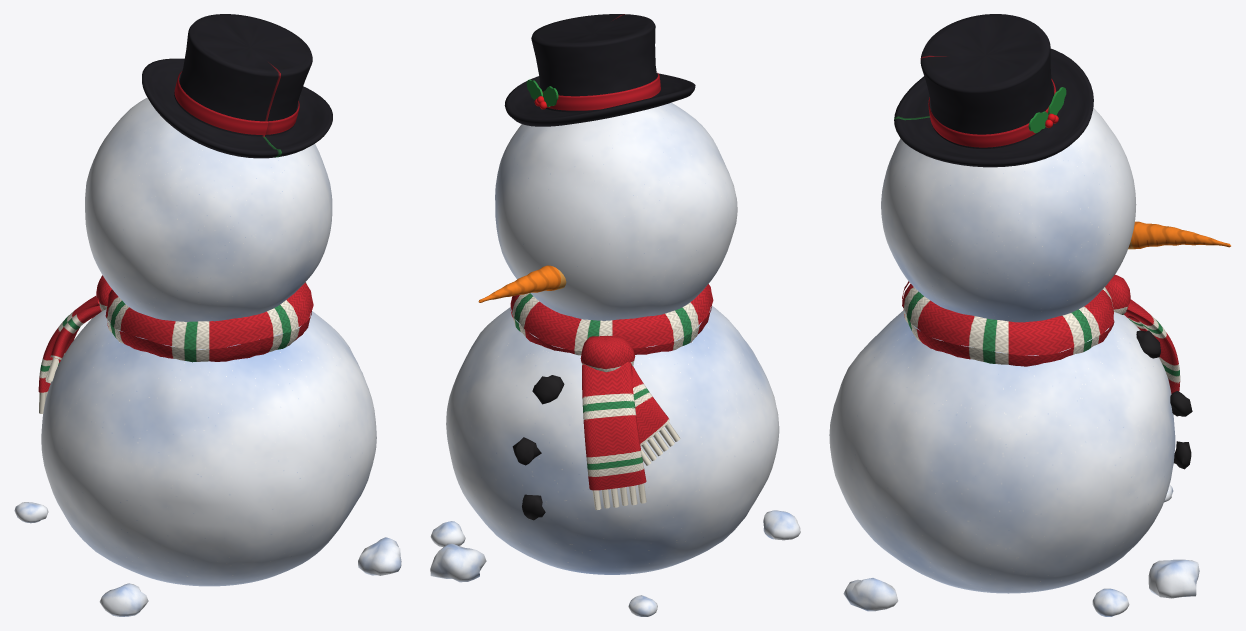
The model's file is snowman.glb.
3 renders of one model, left to right at view 1: azimuth 30°, elevation 25°; view 2: azimuth 150°, elevation 25°; view 3: azimuth 270°, elevation 25°, orthographic. The views are drawn at different scales.
Visible parts, largest first — view 1: snowman; view 2: snowman; view 3: snowman.
Boxes of the visible parts, bbox=[...] form: snowman: bbox=[14, 14, 401, 616]; snowman: bbox=[430, 14, 800, 616]; snowman: bbox=[829, 14, 1230, 616].
Size of the model in its own units: 0.6587 by 1.11 by 0.7668.
Materials: 5 (4 with a texture image).
